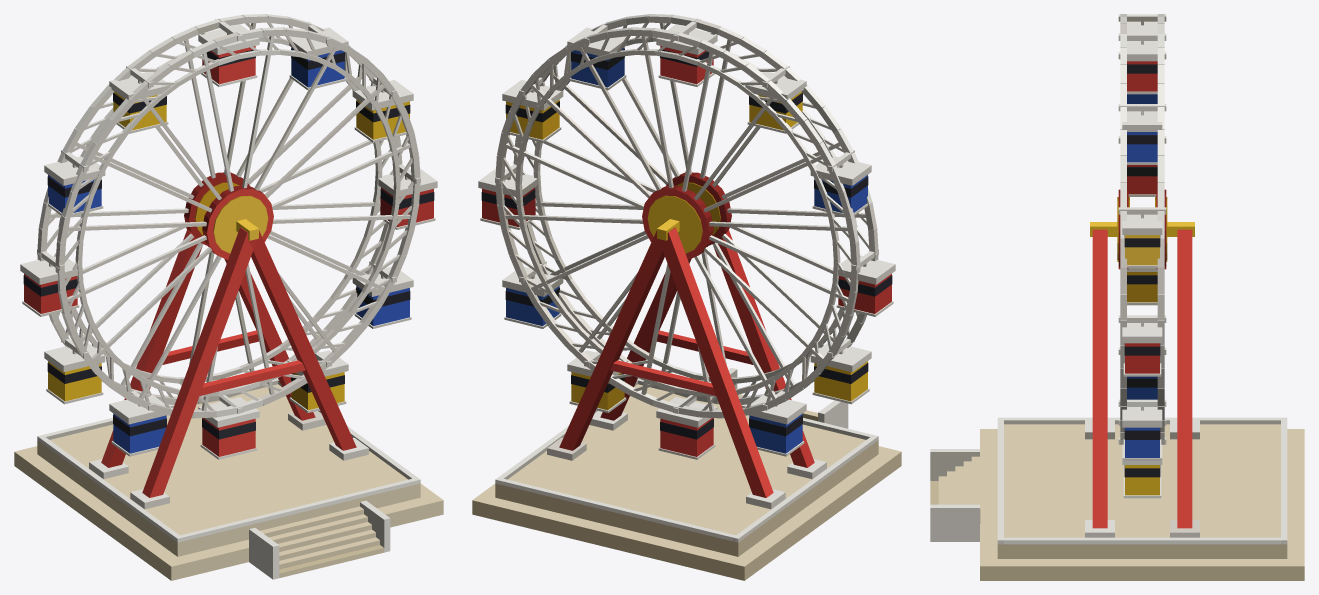
File: landmark.glb
3 views of the same model, side by side, from view 1: azimuth 30°, elevation 25°; view 2: azimuth 150°, elevation 25°; view 3: azimuth 270°, elevation 25° (orthographic). The views are drawn at different scales.
Visible parts, largest first — view 1: ferris; view 2: ferris; view 3: ferris.
Part boxes in pixels (x1,y1,x2,y2): ferris: [14, 14, 443, 580]; ferris: [472, 14, 901, 580]; ferris: [930, 14, 1304, 580].
Size of the model in its own units: 38 by 42.27 by 30.
1 material, 1 textured.
